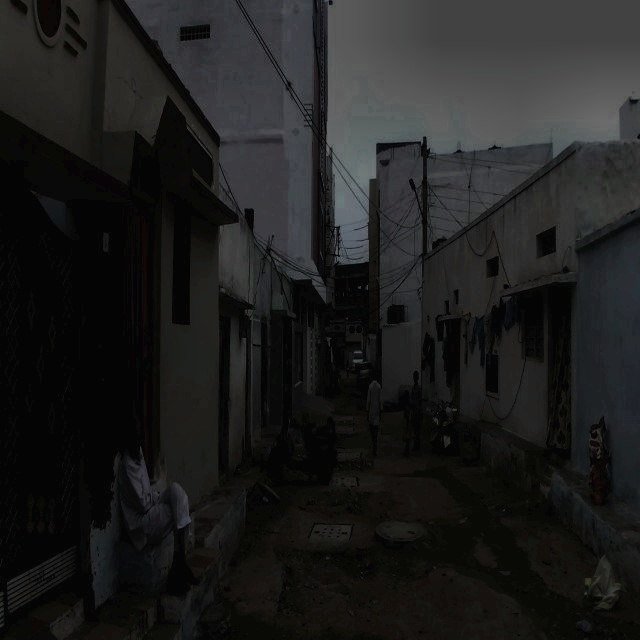Pothole: (296, 552, 429, 584)
Sewer Cover: (306, 522, 356, 542), (377, 522, 423, 543), (326, 477, 358, 490), (336, 452, 360, 462), (334, 424, 354, 434), (334, 417, 354, 426)
